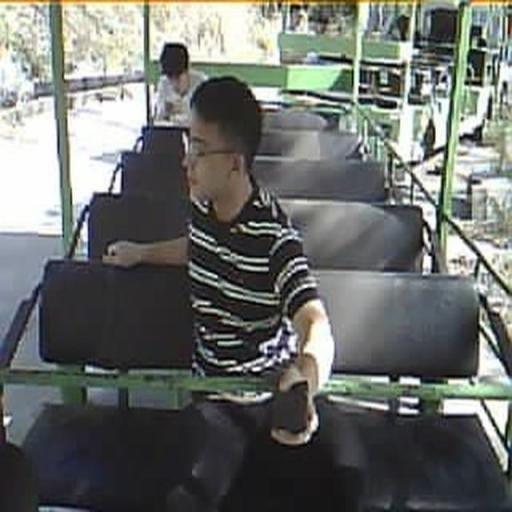persona: (102, 74, 336, 508), (150, 41, 212, 128)
